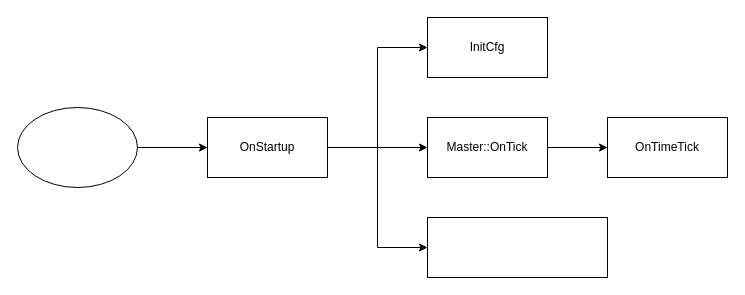
Some shapes in this 745 by 295 pixel diagram are drawn without their labels. Here are the shapes that lost their labels. From the top down, the centre of each, then its label:
At (77,147): "master".
At (517,247): "WorldManager::GetMe().Start".
